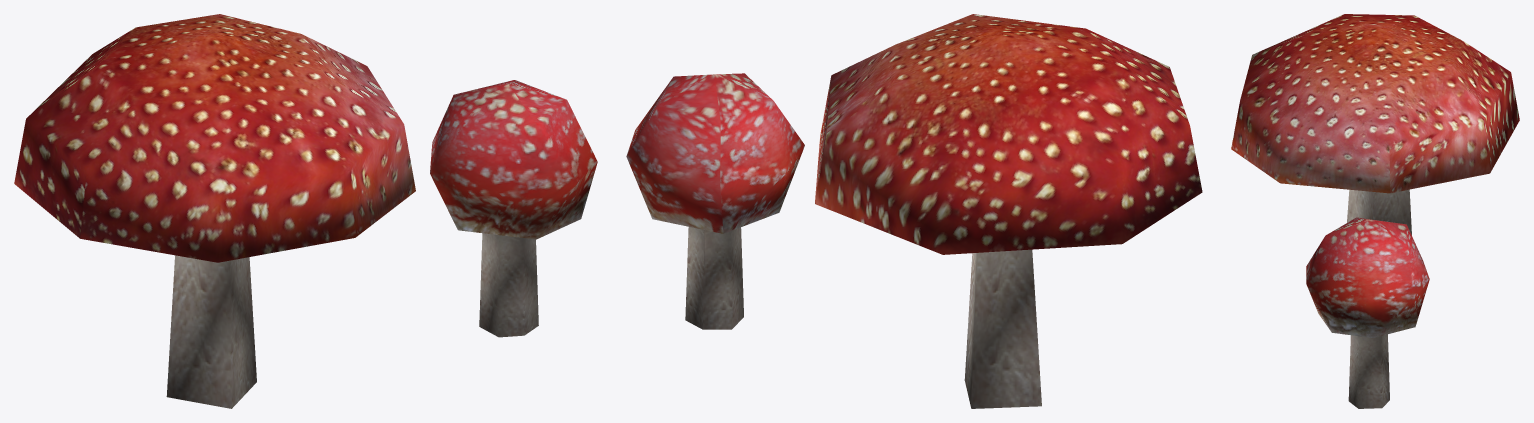
Rendered from mushroom_02_m.FBX.
3 renders of one model, left to right at view 1: azimuth 30°, elevation 25°; view 2: azimuth 150°, elevation 25°; view 3: azimuth 270°, elevation 25°, orthographic. The views are drawn at different scales.
Parts seen in each view (by area): view 1: Mushroom_02_A, Mushroom_02_B; view 2: Mushroom_02_A, Mushroom_02_B; view 3: Mushroom_02_A, Mushroom_02_B.
Boxes of the visible parts, box(x1,y1,x2,y2) form: Mushroom_02_A: box(14, 14, 415, 408); Mushroom_02_B: box(430, 80, 597, 337); Mushroom_02_A: box(815, 14, 1202, 408); Mushroom_02_B: box(626, 73, 804, 329); Mushroom_02_A: box(1231, 14, 1519, 235); Mushroom_02_B: box(1306, 217, 1429, 408).
Size of the model in its own units: 59.26 by 37.66 by 37.15.
